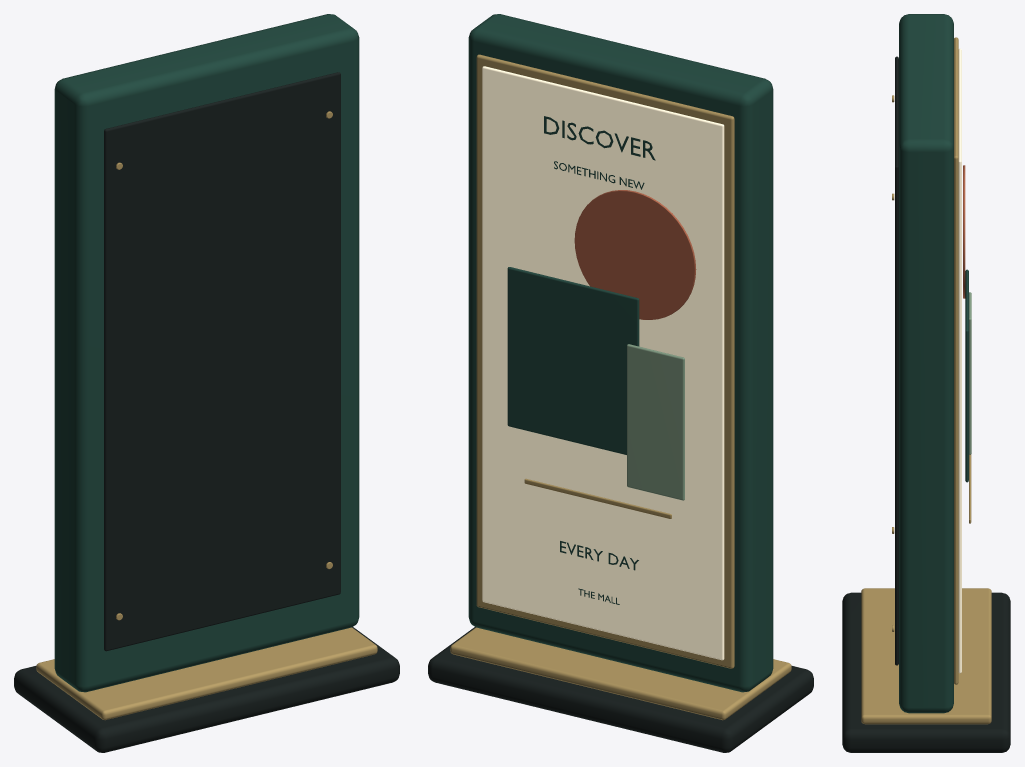
The model's file is mall-advertising-lightbox.glb.
The picture shows the model from 3 angles, left to right: view 1: azimuth 30°, elevation 25°; view 2: azimuth 150°, elevation 25°; view 3: azimuth 270°, elevation 25°; orthographic projection. The views are drawn at different scales.
Parts seen in each view (by area): view 1: mall-advertising-lightbox; view 2: mall-advertising-lightbox; view 3: mall-advertising-lightbox.
Part boxes in pixels (<box>): mall-advertising-lightbox: <box>14,14,399,752</box>; mall-advertising-lightbox: <box>428,14,813,752</box>; mall-advertising-lightbox: <box>842,14,1010,752</box>.
Bounding box in the file's own units: 1.16 × 2.31 × 0.58.
